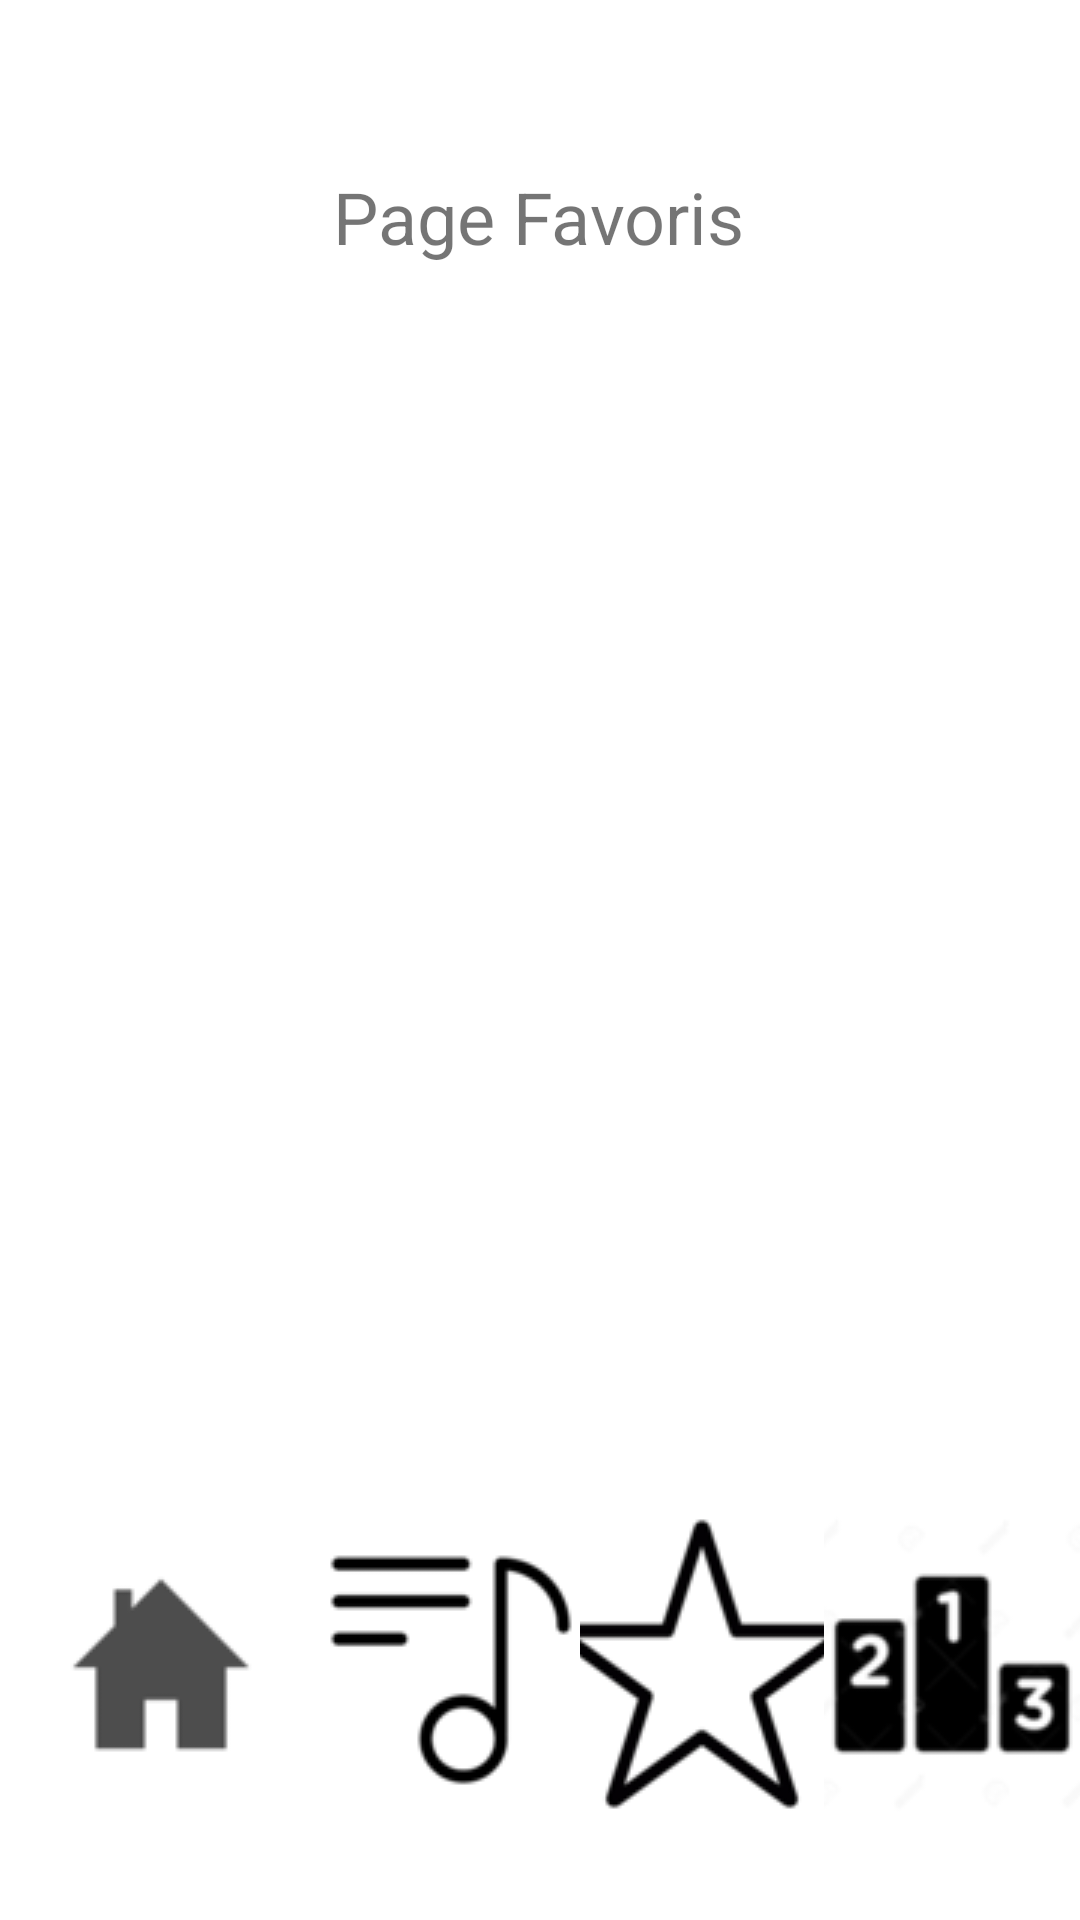

Icons on this 1080×1920 Android screen, each with its box as (x1, y1, x2, y2):
accueil: (73, 1579, 249, 1751)
classement: (833, 1574, 1071, 1754)
favoris: (580, 1519, 824, 1809)
paroles: (330, 1555, 572, 1785)
